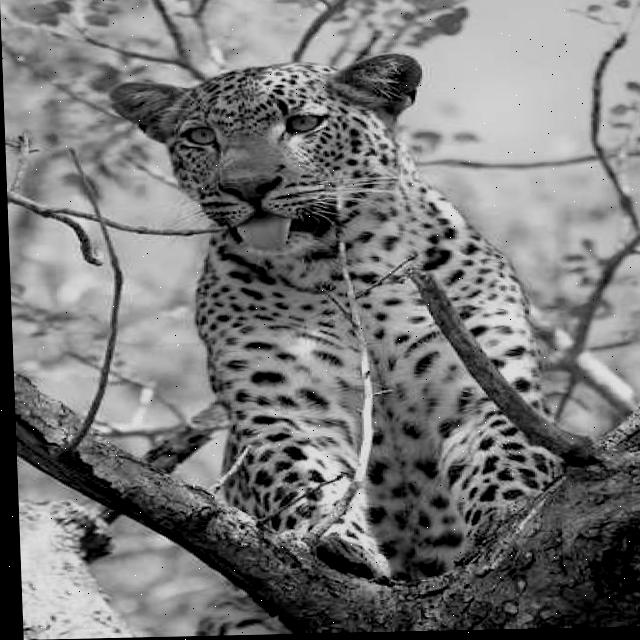Leopard: (104, 48, 577, 634)
